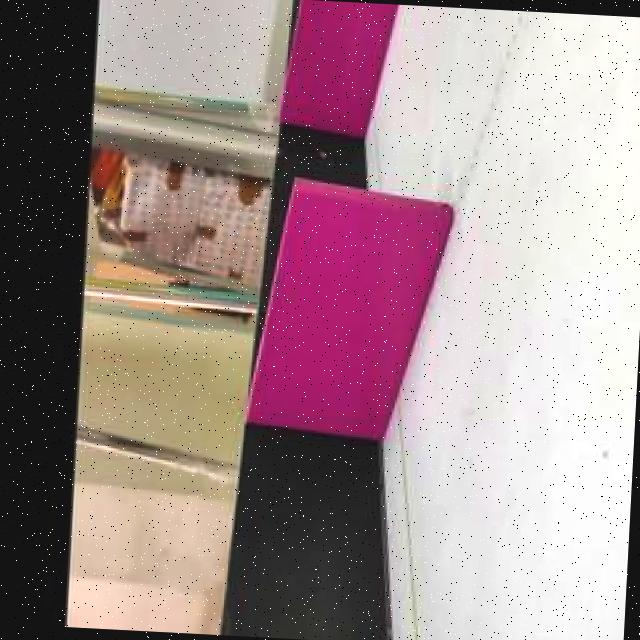xparking: (247, 182, 456, 438), (281, 0, 400, 136)
